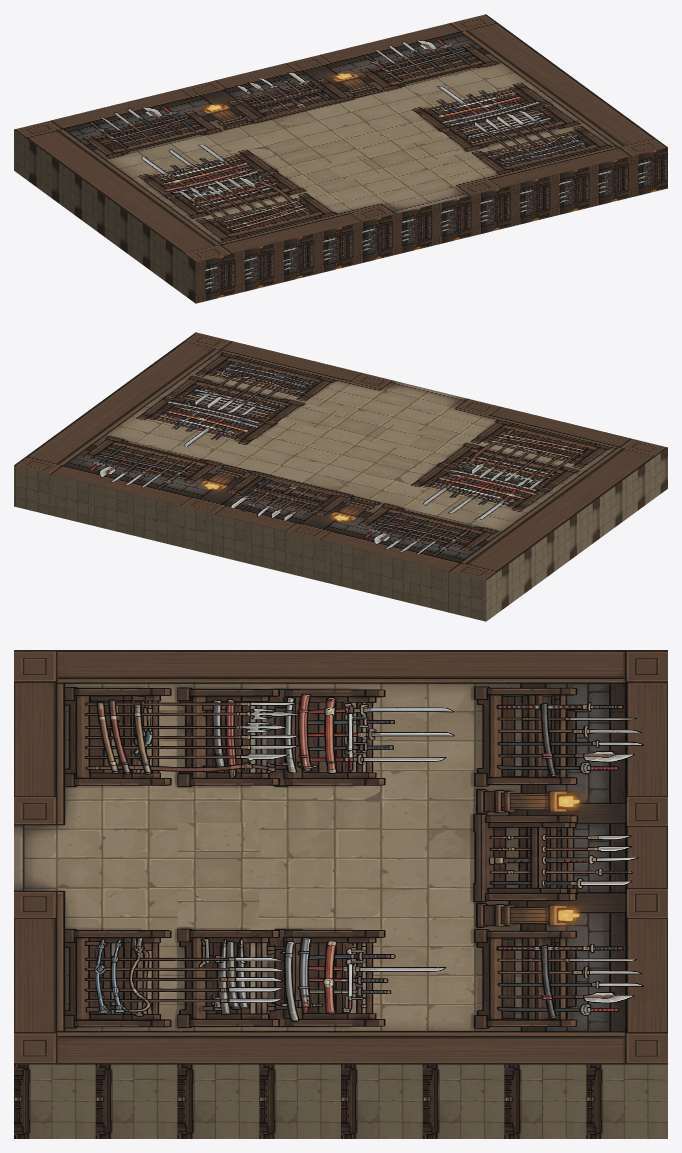
The model's file is 武器庫１.fbx.
The picture shows the model from 3 angles, top to bottom: view 1: azimuth 30°, elevation 25°; view 2: azimuth 150°, elevation 25°; view 3: azimuth 270°, elevation 25°; orthographic projection. The views are drawn at different scales.
Parts seen in each view (by area): view 1: 立方体.135, 立方体.137, 立方体.072, 立方体.073, 立方体.086, 立方体.088, 立方体.136, 立方体.071, 立方体.074, 立方体.089, 立方体.087, 立方体.134 (+84 smaller); view 2: 立方体.147, 立方体.149, 立方体.097, 立方体.099, 立方体.114, 立方体.115, 立方体.148, 立方体.100, 立方体.113, 立方体.116, 立方体.098, 立方体.146 (+84 smaller); view 3: 立方体.077, 立方体.081, 立方体.124, 立方体.128, 立方体.070, 立方体.074, 立方体.116, 立方体.120, 立方体.076, 立方体.123, 立方体.129, 立方体.140 (+84 smaller).
Part boxes in pixels (<box>): 立方体.135: <box>173,236,234,303</box>; 立方体.137: <box>291,207,353,274</box>; 立方体.072: <box>488,159,549,226</box>; 立方体.073: <box>567,140,628,207</box>; 立方体.086: <box>370,188,431,255</box>; 立方体.088: <box>409,178,471,245</box>; 立方体.136: <box>252,217,313,284</box>; 立方体.071: <box>527,150,589,217</box>; 立方体.074: <box>606,131,667,197</box>; 立方体.089: <box>449,169,510,236</box>; 立方体.087: <box>330,198,392,264</box>; 立方体.134: <box>213,226,274,293</box>; 立方体.147: <box>447,554,508,621</box>; 立方体.149: <box>328,525,390,592</box>; 立方体.097: <box>250,506,311,573</box>; 立方体.099: <box>210,496,272,563</box>; 立方体.114: <box>132,477,193,544</box>; 立方体.115: <box>53,458,114,525</box>; 立方体.148: <box>368,535,429,602</box>; 立方体.100: <box>171,487,232,554</box>; 立方体.113: <box>92,468,154,535</box>; 立方体.116: <box>14,449,75,515</box>; 立方体.098: <box>289,516,351,582</box>; 立方体.146: <box>407,544,468,611</box>; 立方体.077: <box>177,1030,259,1138</box>; 立方体.081: <box>95,1030,177,1138</box>; 立方体.124: <box>504,1030,586,1138</box>; 立方体.128: <box>422,1030,504,1138</box>; 立方体.070: <box>259,1030,340,1138</box>; 立方体.074: <box>14,1030,95,1138</box>; 立方体.116: <box>586,1030,667,1138</box>; 立方体.120: <box>341,1030,422,1138</box>; 立方体.076: <box>177,995,259,1030</box>; 立方体.123: <box>504,995,586,1030</box>; 立方体.129: <box>177,684,259,719</box>; 立方体.140: <box>177,753,259,788</box>.
Bounding box in the file's own units: 12 × 1 × 8.
Materials: 1 (1 with a texture image).
